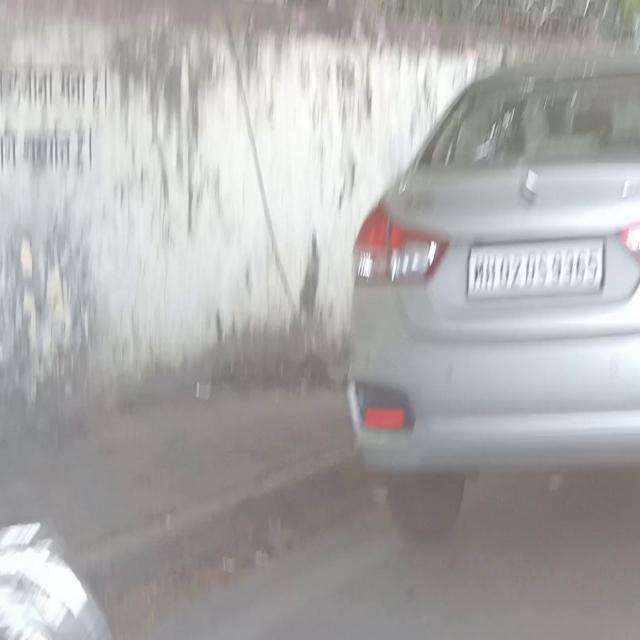Plate: (469, 239, 605, 294)
